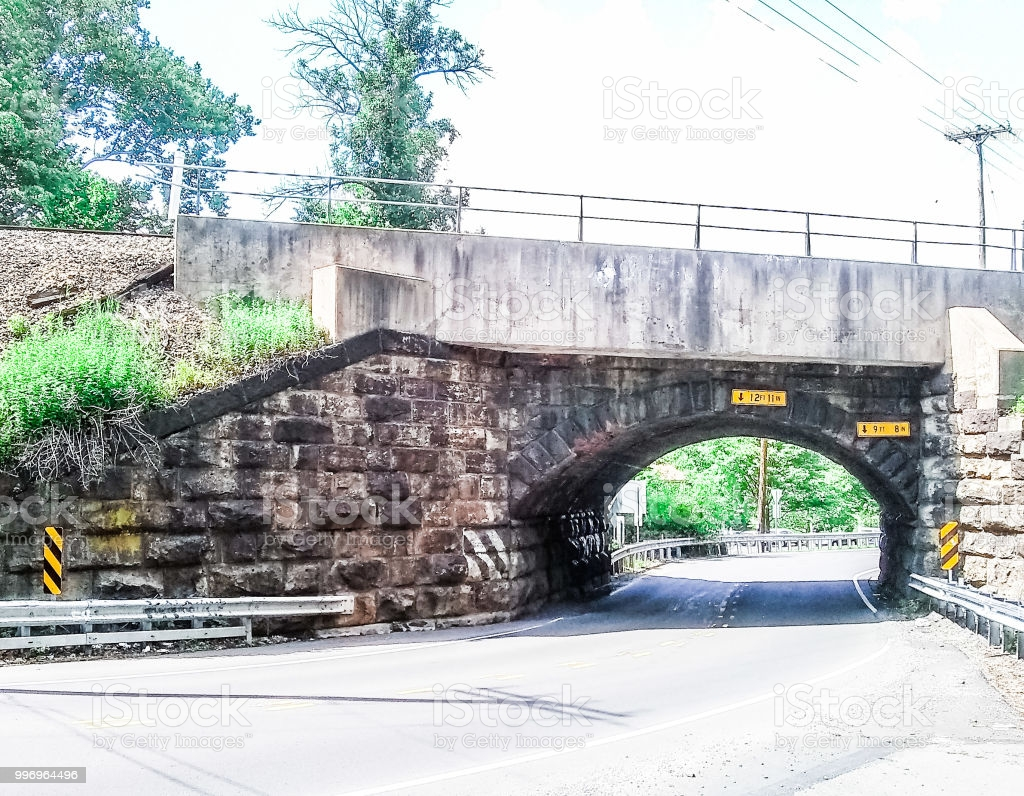bridge: (174, 155, 1024, 625)
